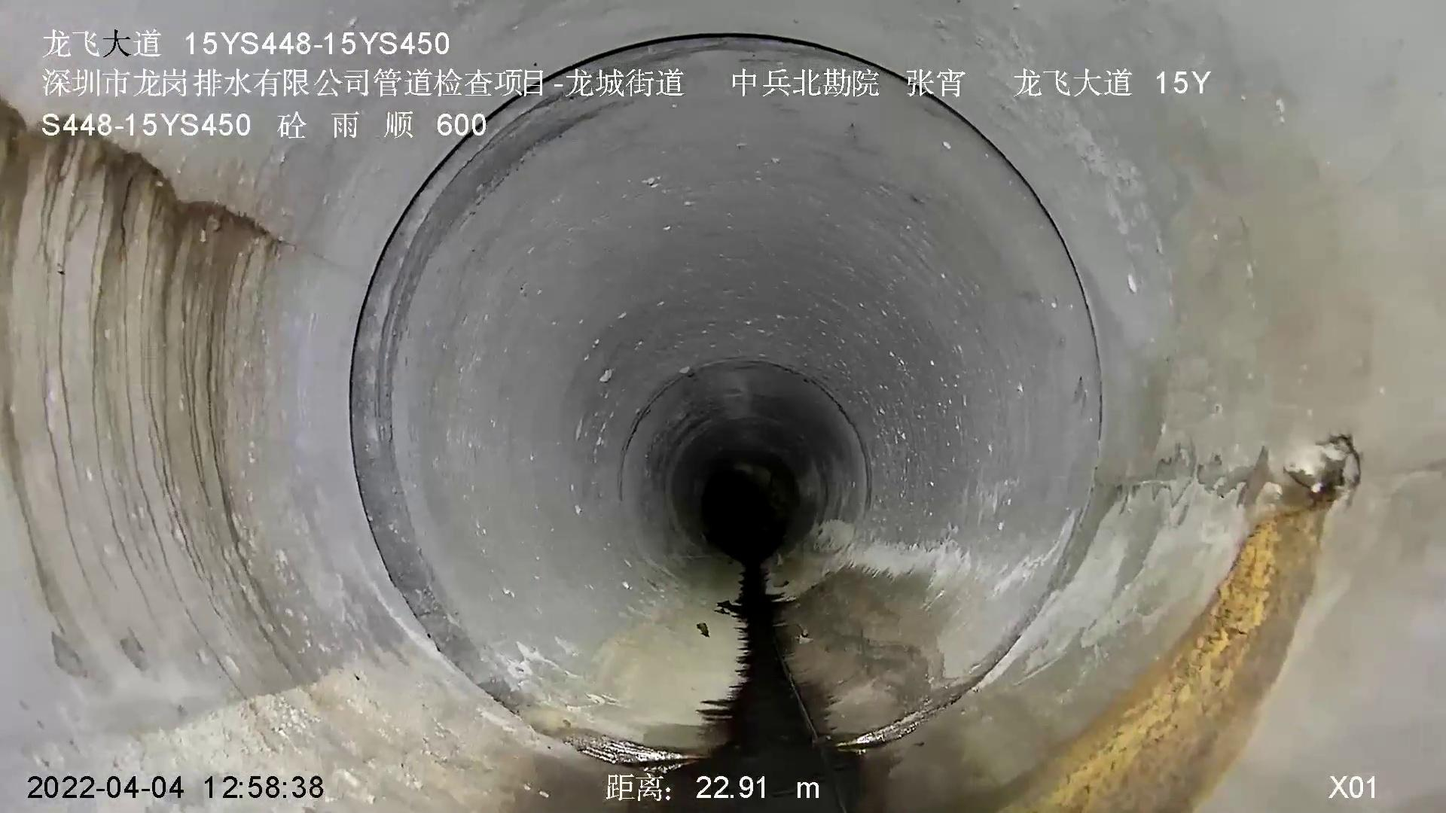CKTJ: (350, 34, 901, 744)
